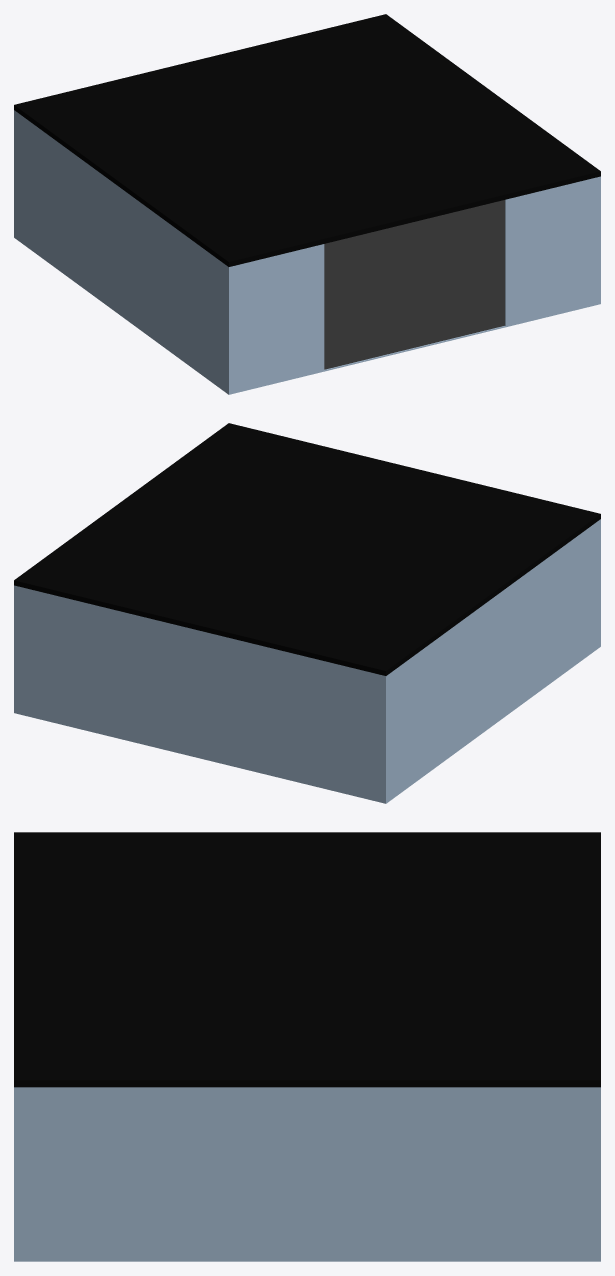
The model's file is garage.fbx.
3 views of the same model, one above another, from view 1: azimuth 30°, elevation 25°; view 2: azimuth 150°, elevation 25°; view 3: azimuth 270°, elevation 25° (orthographic). The views are drawn at different scales.
Visible parts, largest first — view 1: garage, door; view 2: garage; view 3: garage.
Boxes of the visible parts, x1,y1,x2,y2 form: garage: (14,14,600,394); door: (324,200,504,369); garage: (14,423,600,803); garage: (14,832,600,1261).
Bounding box in the file's own units: 770 × 770 × 262.
